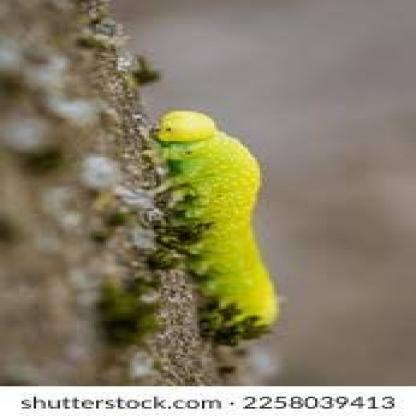sawfly: (139, 103, 283, 347)
